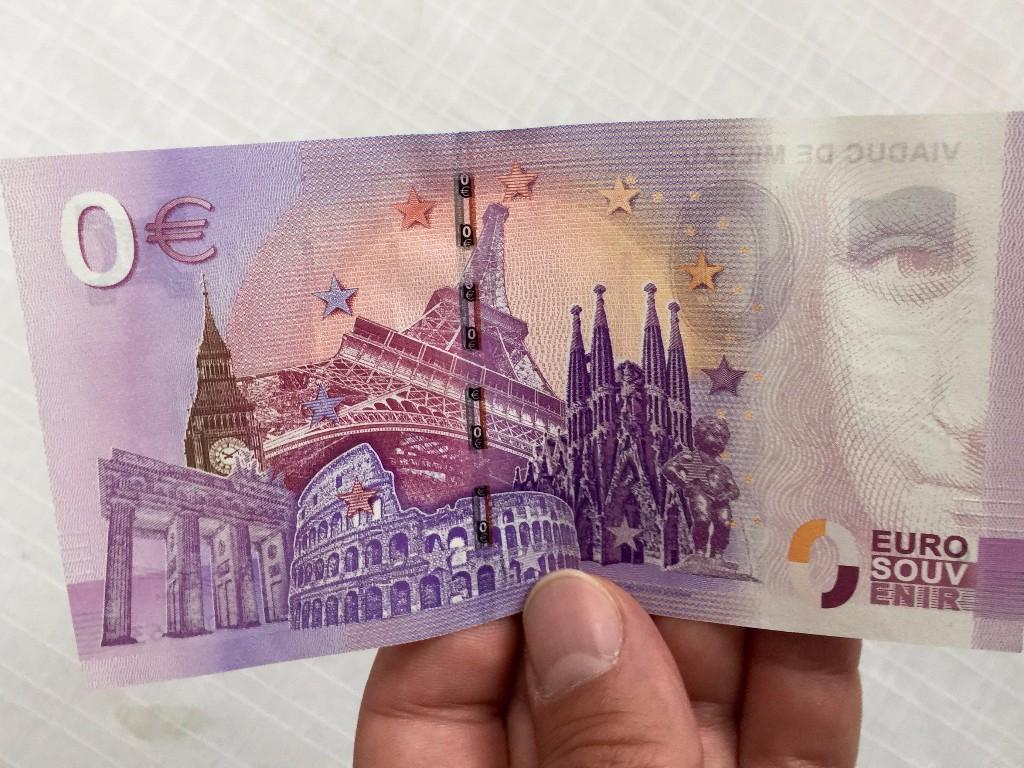billete: (1, 103, 1024, 700)
